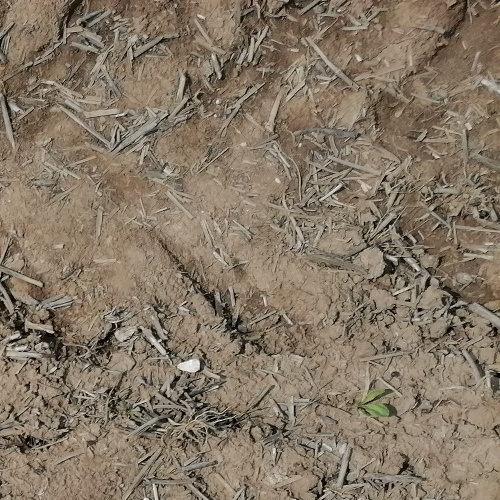beet: (358, 384, 392, 419)
